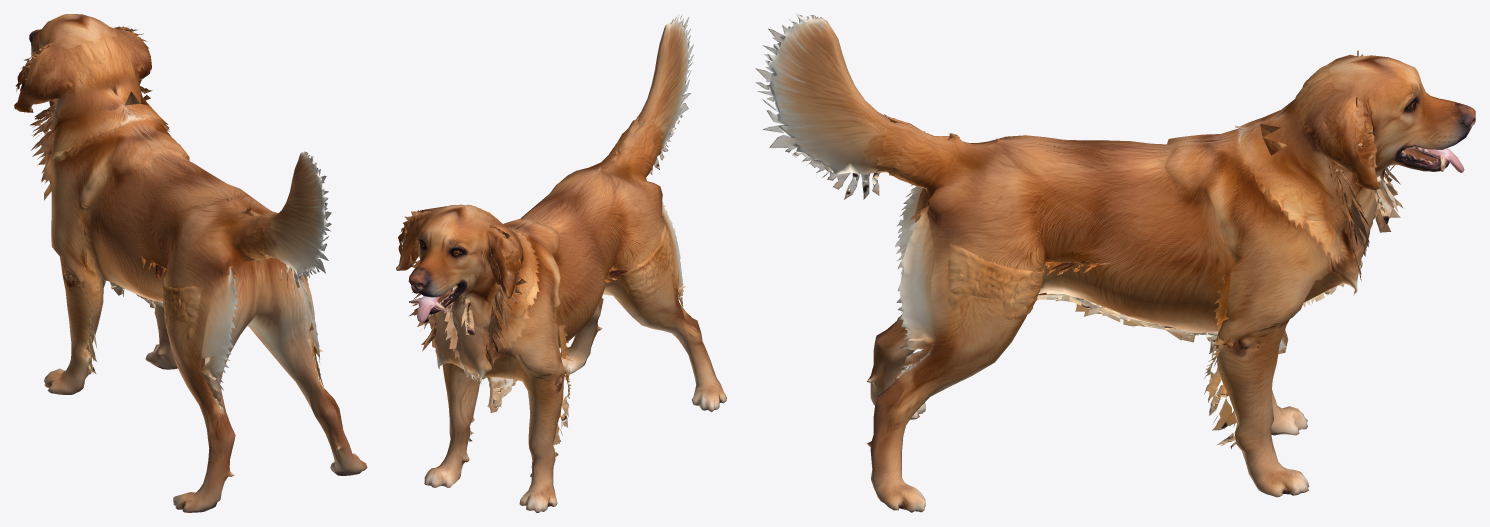
File: Meshy_AI_ca5dd9ec_506f_47bc_a8_0707034407_texture.glb
3 renders of one model, left to right at view 1: azimuth 30°, elevation 25°; view 2: azimuth 150°, elevation 25°; view 3: azimuth 270°, elevation 25°, orthographic. The views are drawn at different scales.
Size of the model in its own units: 0.7162 by 1.37 by 2.
1 material, 1 textured.
